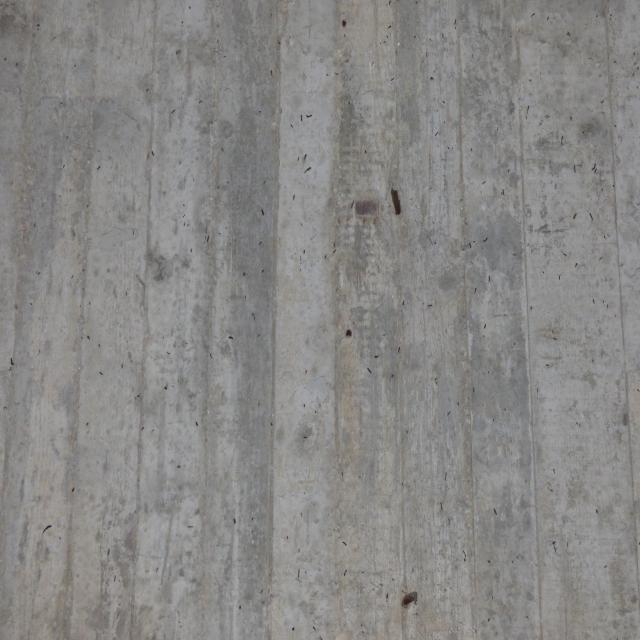corrosion: (388, 182, 405, 218), (400, 590, 423, 607), (344, 328, 354, 339)
